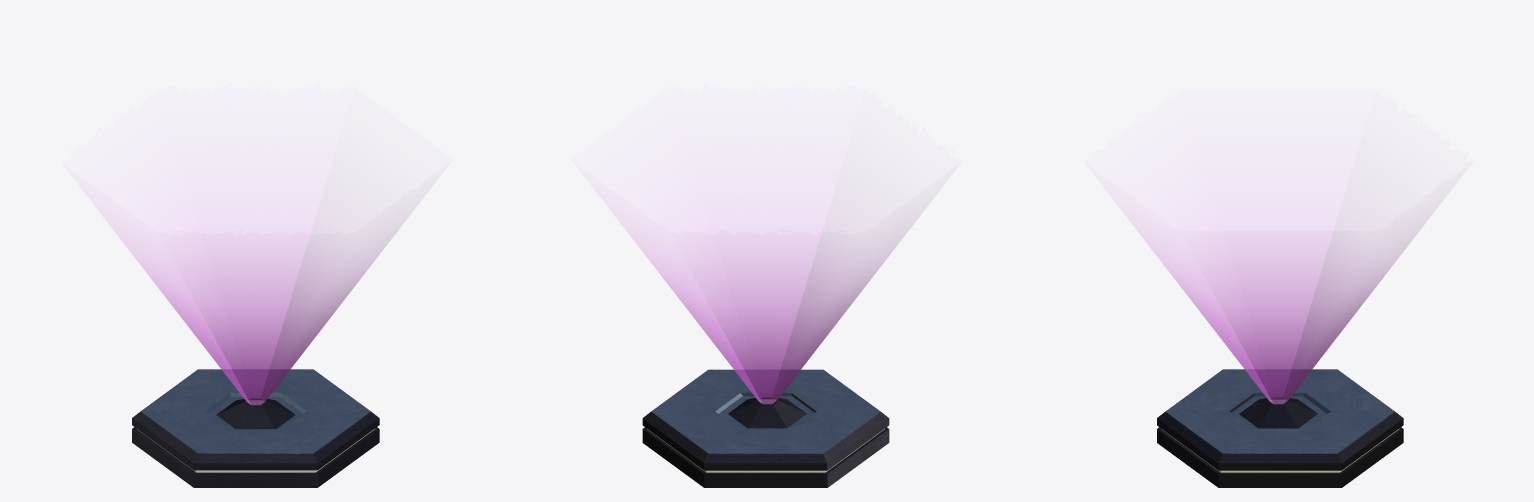
The model's file is HoloPot01_Art.glb.
3 views of the same model, side by side, from view 1: azimuth 30°, elevation 25°; view 2: azimuth 150°, elevation 25°; view 3: azimuth 270°, elevation 25° (orthographic).
Visible parts, largest first — view 1: HoloPot01_Art; view 2: HoloPot01_Art; view 3: HoloPot01_Art.
Part boxes in pixels (x1=…): HoloPot01_Art: x1=108, y1=222, x2=401, y2=487; HoloPot01_Art: x1=620, y1=222, x2=914, y2=487; HoloPot01_Art: x1=1131, y1=222, x2=1425, y2=487.
Bounding box in the file's own units: 3.38 × 3.04 × 3.91.
Materials: 1 (1 with a texture image).
